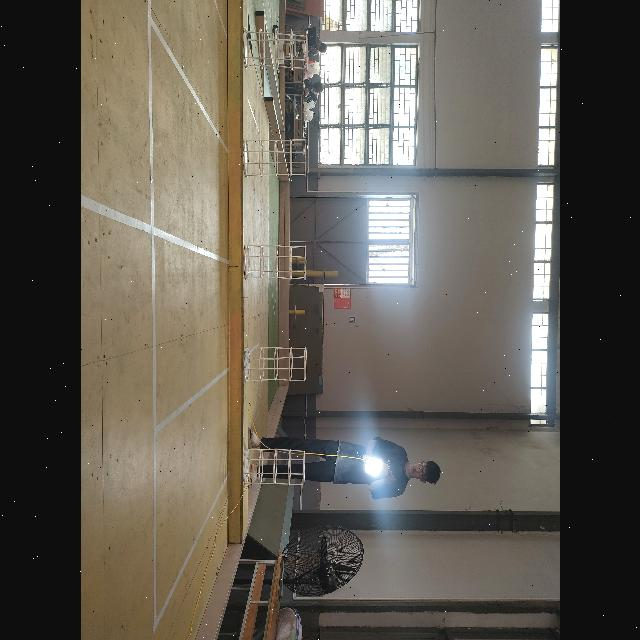S: (235, 25, 315, 73), (240, 136, 312, 180), (242, 242, 314, 284), (239, 446, 309, 486), (242, 344, 308, 382)
